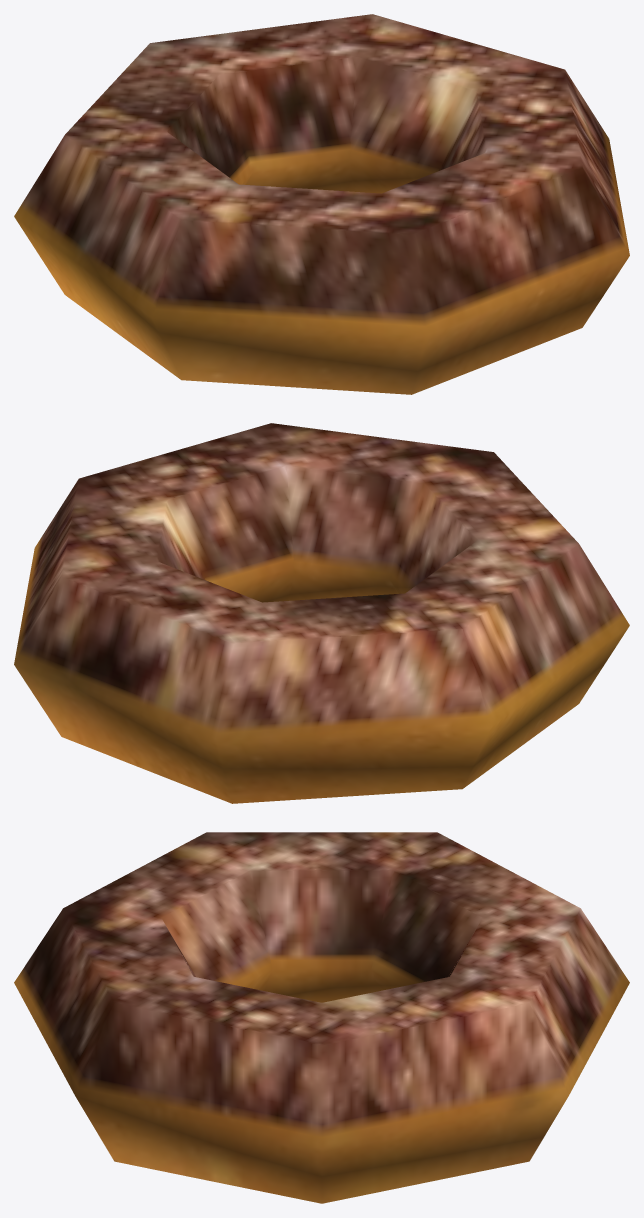
The model's file is DonutType3.glb.
3 views of the same model, one above another, from view 1: azimuth 30°, elevation 25°; view 2: azimuth 150°, elevation 25°; view 3: azimuth 270°, elevation 25° (orthographic).
Visible parts, largest first — view 1: Donut_03; view 2: Donut_03; view 3: Donut_03.
Boxes of the visible parts, x1,y1,x2,y2 form: Donut_03: [14, 14, 629, 394]; Donut_03: [14, 423, 629, 803]; Donut_03: [14, 832, 629, 1203].
Bounding box in the file's own units: 0.2093 × 0.0609 × 0.2147.
Materials: 1 (1 with a texture image).
